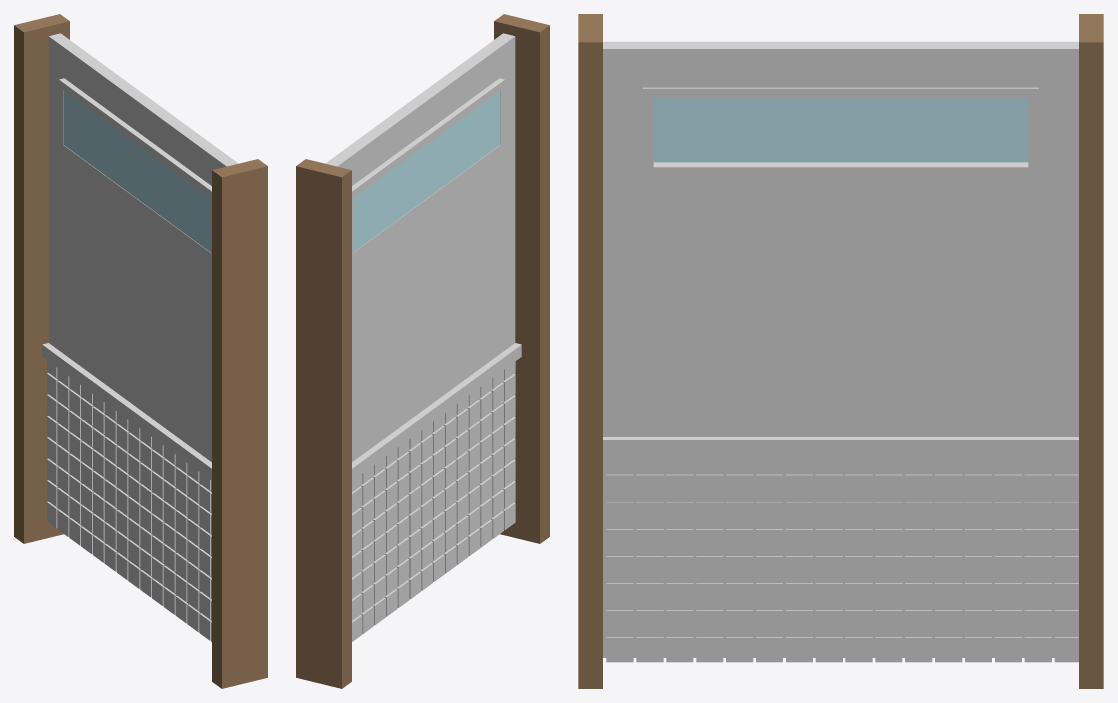
Rendered from wall.fbx.
3 renders of one model, left to right at view 1: azimuth 30°, elevation 25°; view 2: azimuth 150°, elevation 25°; view 3: azimuth 270°, elevation 25°, orthographic. The views are drawn at different scales.
Parts seen in each view (by area): view 1: Cube.005, Cube.007, Cube.010, Cube.008, Cube.013, Cube.012, Cube.009; view 2: Cube.005, Cube.008, Cube.010, Cube.007, Cube.013, Cube.012, Cube.009; view 3: Cube.005, Cube.010, Cube.013, Cube.007, Cube.008, Cube.012, Cube.009.
Part boxes in pixels (x1=…): Cube.005: x1=48, y1=33, x2=238, y2=619; Cube.007: x1=212, y1=159, x2=267, y2=688; Cube.010: x1=47, y1=360, x2=211, y2=641; Cube.008: x1=14, y1=14, x2=69, y2=543; Cube.013: x1=63, y1=91, x2=211, y2=252; Cube.012: x1=59, y1=78, x2=211, y2=260; Cube.009: x1=42, y1=343, x2=211, y2=480; Cube.005: x1=325, y1=33, x2=515, y2=616; Cube.008: x1=296, y1=159, x2=351, y2=688; Cube.010: x1=352, y1=361, x2=515, y2=641; Cube.007: x1=494, y1=14, x2=549, y2=543; Cube.013: x1=352, y1=91, x2=500, y2=252; Cube.012: x1=352, y1=78, x2=504, y2=260; Cube.009: x1=352, y1=343, x2=521, y2=480; Cube.005: x1=603, y1=41, x2=1078, y2=657; Cube.010: x1=606, y1=455, x2=1078, y2=662; Cube.013: x1=653, y1=98, x2=1028, y2=162; Cube.007: x1=578, y1=14, x2=602, y2=688; Cube.008: x1=1079, y1=14, x2=1103, y2=688; Cube.012: x1=643, y1=87, x2=1038, y2=176; Cube.009: x1=603, y1=437, x2=1078, y2=455.
Bounding box in the file's own units: 177 × 1883 × 1387.
